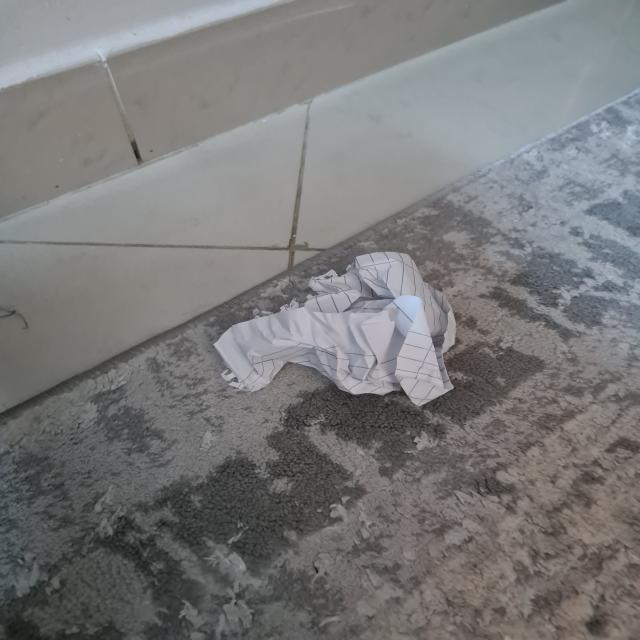Paper: (205, 256, 451, 411)
